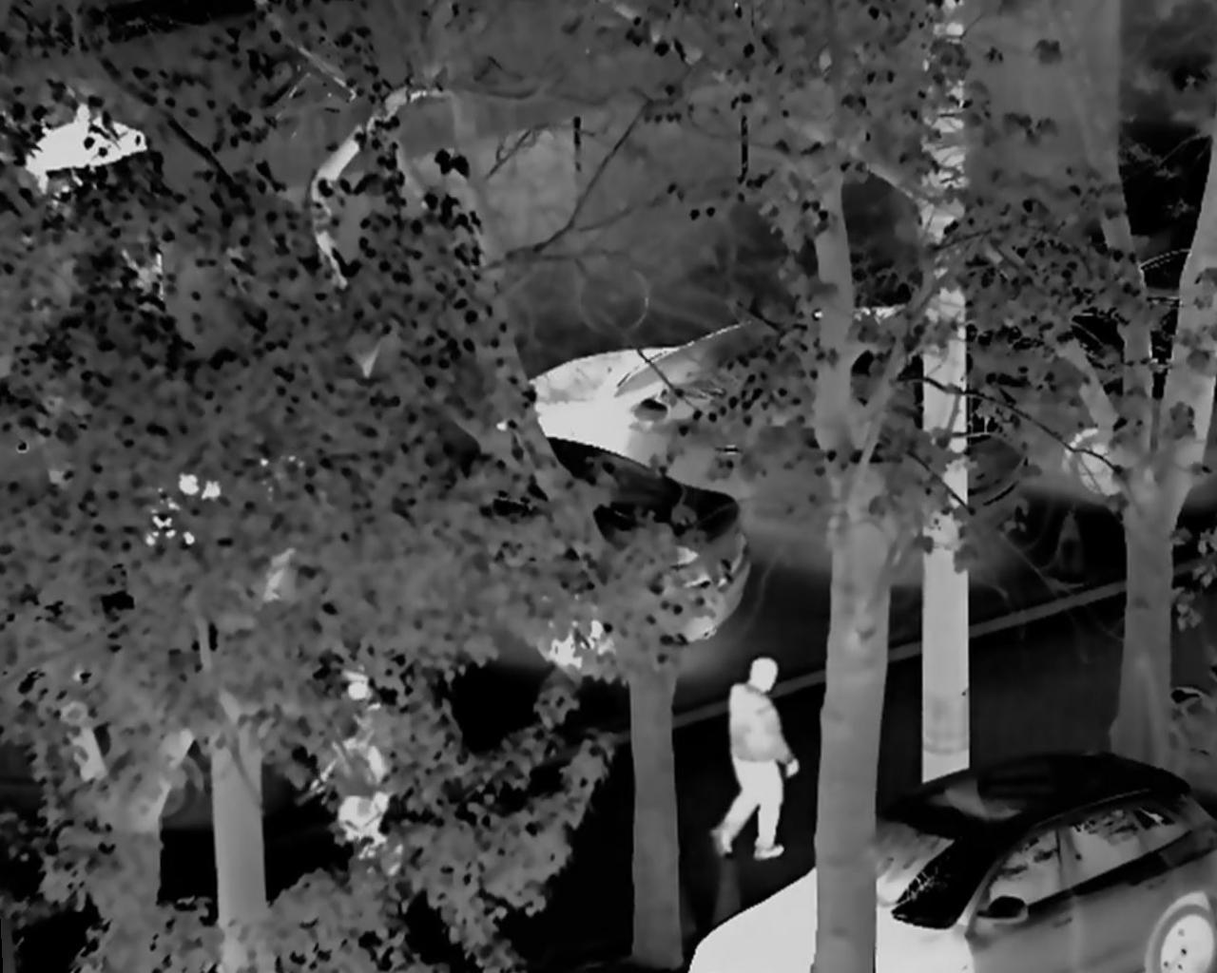person: (702, 653, 809, 862), (319, 715, 402, 907)
